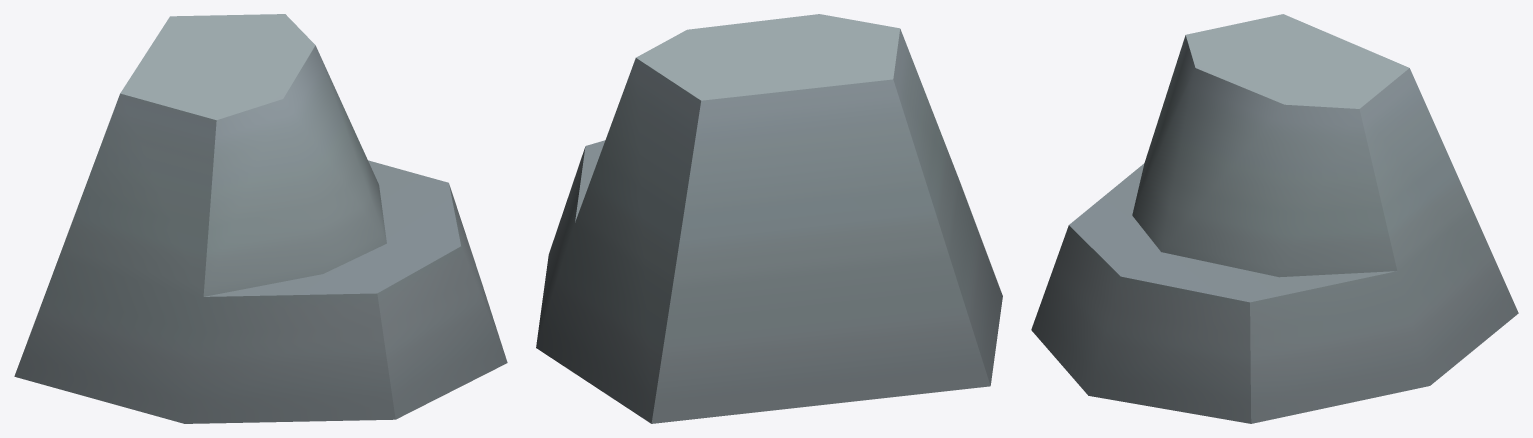
Rendered from kay-pedra-c.gltf.
3 renders of one model, left to right at view 1: azimuth 30°, elevation 25°; view 2: azimuth 150°, elevation 25°; view 3: azimuth 270°, elevation 25°, orthographic. The views are drawn at different scales.
Visible parts, largest first — view 1: rock_single_C; view 2: rock_single_C; view 3: rock_single_C.
Boxes of the visible parts, box(x1,y1,x2,y2) form: rock_single_C: box(14, 14, 507, 423); rock_single_C: box(536, 14, 1002, 423); rock_single_C: box(1031, 14, 1518, 423).
Bounding box in the file's own units: 1.72 × 0.9739 × 1.72.
Materials: 1 (1 with a texture image).
